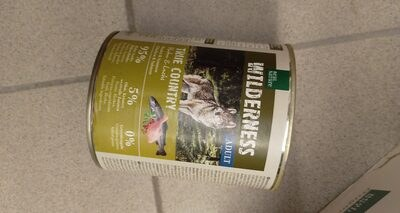True Country: (20, 11, 380, 202)
